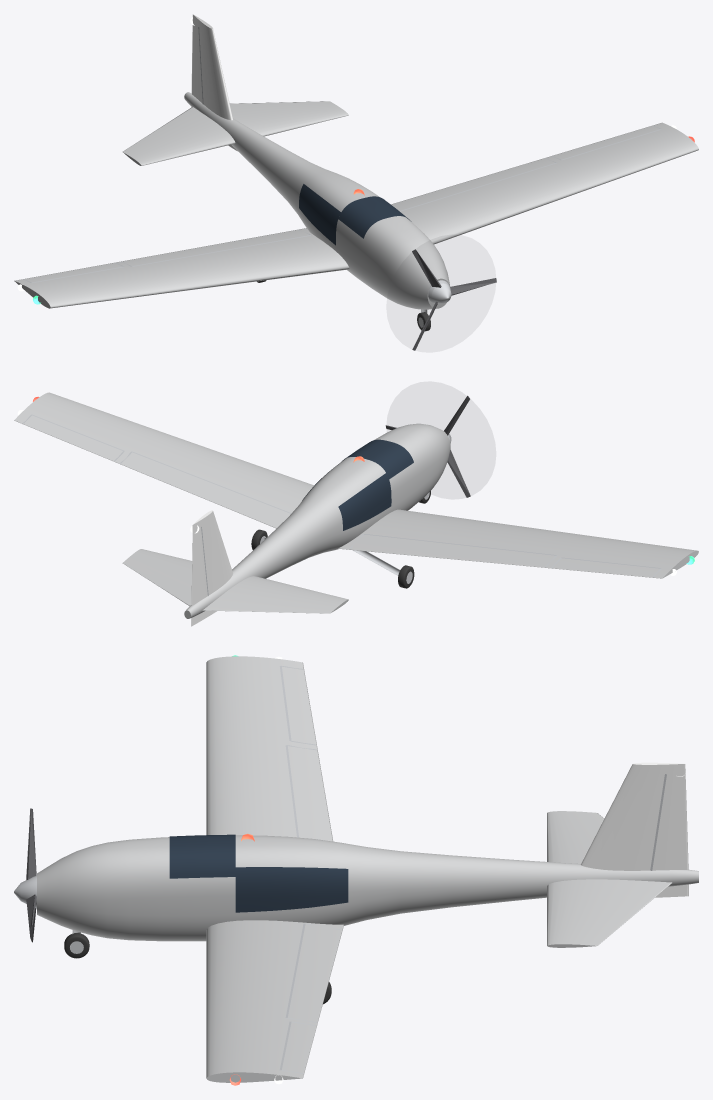
3 views of the same model, one above another, from view 1: azimuth 30°, elevation 25°; view 2: azimuth 150°, elevation 25°; view 3: azimuth 270°, elevation 25° (orthographic). The views are drawn at different scales.
Parts seen in each view (by area): view 1: airframe, prop; view 2: airframe, prop; view 3: airframe, prop.
Boxes of the visible parts, x1,y1,x2,y2 form: airframe: [14, 14, 698, 331]; prop: [412, 249, 496, 350]; airframe: [14, 392, 698, 626]; prop: [385, 395, 470, 497]; airframe: [14, 655, 698, 1085]; prop: [26, 808, 36, 942].
Bounding box in the file's own units: 12.12 × 2.72 × 8.28.
